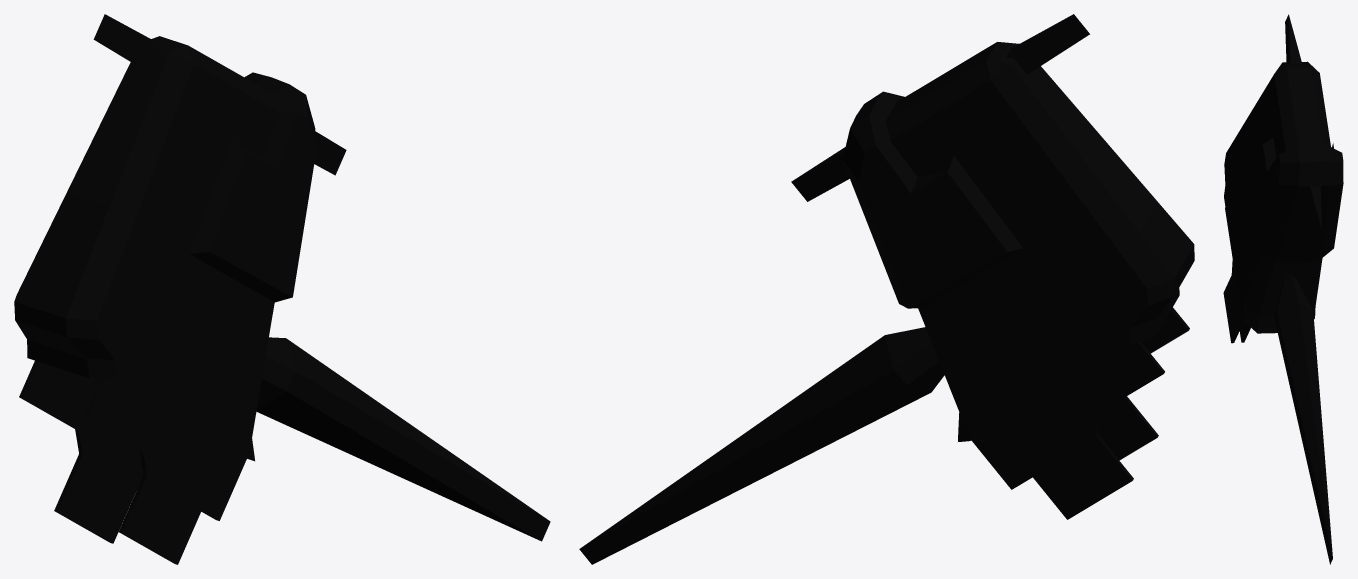
File: shipScrapPart_13.glb
3 renders of one model, left to right at view 1: azimuth 30°, elevation 25°; view 2: azimuth 150°, elevation 25°; view 3: azimuth 270°, elevation 25°, orthographic. The views are drawn at different scales.
Visible parts, largest first — view 1: shipScrapPart_13; view 2: shipScrapPart_13; view 3: shipScrapPart_13.
Boxes of the visible parts, x1,y1,x2,y2 form: shipScrapPart_13: (14, 14, 550, 564); shipScrapPart_13: (579, 14, 1194, 564); shipScrapPart_13: (1223, 14, 1343, 564).
Bounding box in the file's own units: 1.37 × 1.51 × 0.4009.
2 materials, 2 textured.
